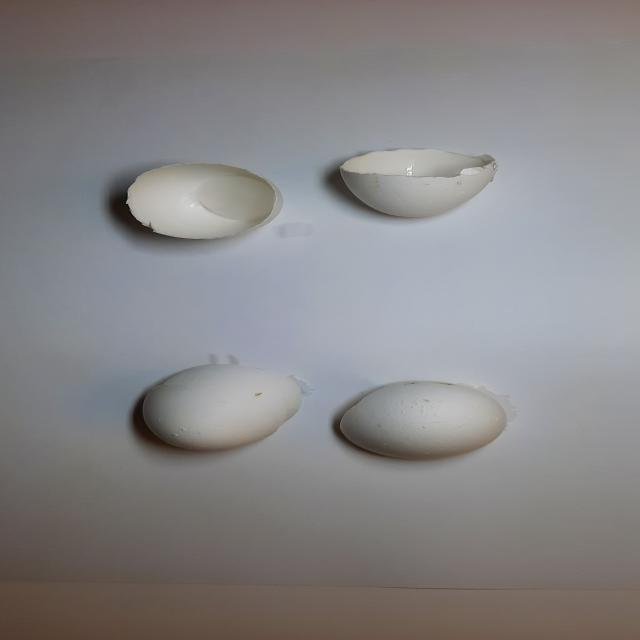egg shell: (125, 348, 315, 458), (327, 373, 523, 467), (115, 153, 293, 247), (318, 142, 510, 226)
